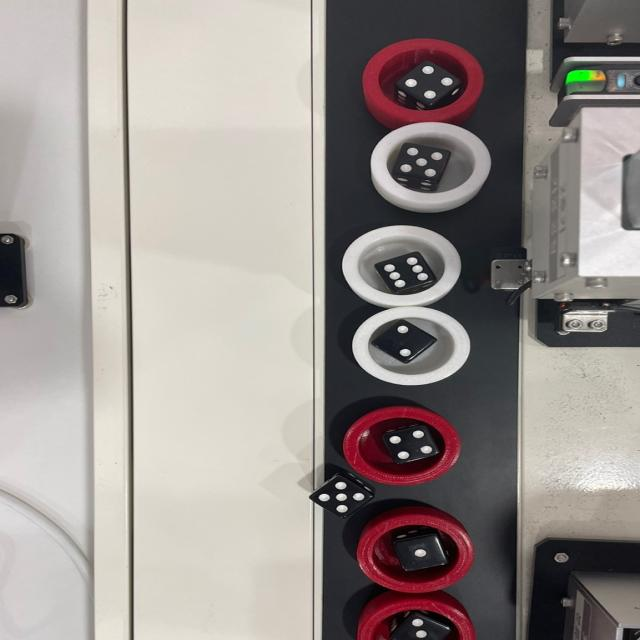DICE1: (402, 546, 443, 572)
DICE2: (379, 324, 422, 362)
DICE3: (406, 618, 446, 640)
DICE4: (403, 66, 459, 102), (387, 430, 440, 468)
DICE5: (317, 482, 366, 517), (396, 147, 445, 181)
DICE6: (381, 256, 439, 292)
RedChip: (356, 515, 478, 595), (342, 410, 460, 486), (364, 40, 476, 120), (359, 599, 470, 640)
WhiteChip: (368, 122, 492, 207), (353, 309, 475, 386), (339, 226, 457, 305)
